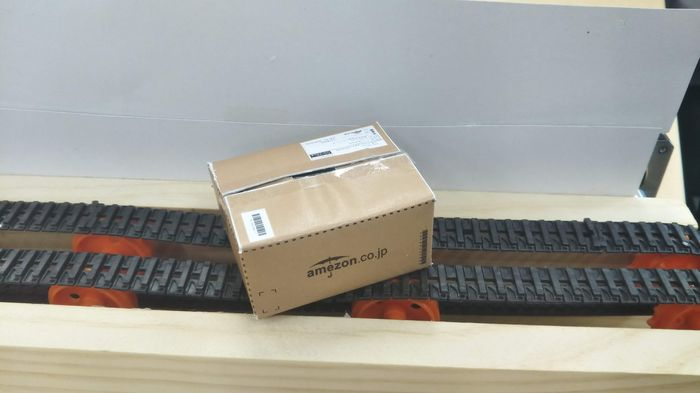box1: (202, 117, 436, 319)
